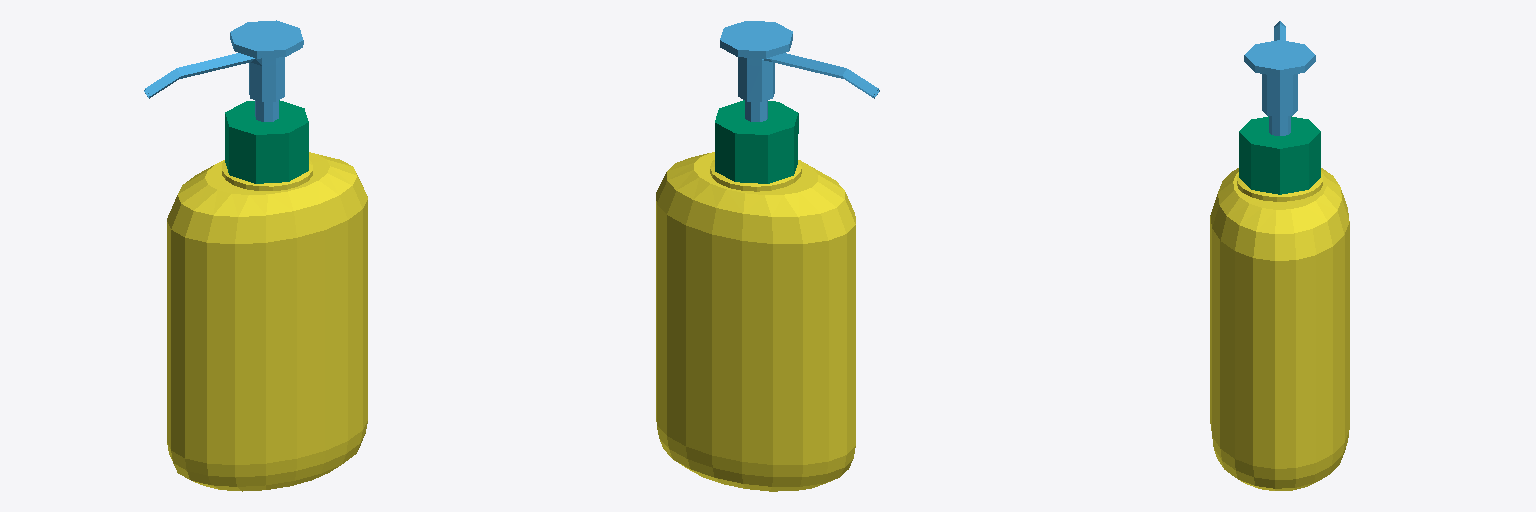
URDF robot description (partnet_daab8d5b-b371-404b-b11b-94564de1e0de):
<?xml version="1.0" ?>
<robot name="partnet_daab8d5b-b371-404b-b11b-94564de1e0de">
	<link name="base"/>
	<link name="link_0">
		<visual name="pressing_lid-1">
			<origin xyz="-0.004700500000000003 0 -0.00026694471682328635"/>
			<geometry>
				<mesh filename="textured_objs/original-3.obj"/>
			</geometry>
		</visual>
		<collision>
			<origin xyz="-0.004700500000000003 0 -0.00026694471682328635"/>
			<geometry>
				<mesh filename="textured_objs/original-3.obj"/>
			</geometry>
		</collision>
	</link>
	<joint name="joint_0" type="continuous">
		<origin xyz="0.0 0 0.0"/>
		<axis xyz="0 1 0"/>
		<child link="link_0"/>
		<parent link="link_0_helper"/>
	</joint>
	<link name="link_1">
		<visual name="head-3">
			<origin xyz="-0.0046615 0 0.002041000000000015"/>
			<geometry>
				<mesh filename="textured_objs/original-2.obj"/>
			</geometry>
		</visual>
		<collision>
			<origin xyz="-0.0046615 0 0.002041000000000015"/>
			<geometry>
				<mesh filename="textured_objs/original-2.obj"/>
			</geometry>
		</collision>
	</link>
	<joint name="joint_1" type="continuous">
		<origin xyz="0.0 0 0.0"/>
		<axis xyz="0 -1 0"/>
		<child link="link_1"/>
		<parent link="link_1_helper"/>
	</joint>
	<link name="link_2">
		<visual name="base_body-4">
			<origin xyz="0 0 0"/>
			<geometry>
				<mesh filename="textured_objs/original-1.obj"/>
			</geometry>
		</visual>
		<collision>
			<origin xyz="0 0 0"/>
			<geometry>
				<mesh filename="textured_objs/original-1.obj"/>
			</geometry>
		</collision>
	</link>
	<joint name="joint_2" type="fixed">
		<origin rpy="1.570796326794897 0 -1.570796326794897" xyz="0 0 0"/>
		<child link="link_2"/>
		<parent link="base"/>
	</joint>
	<link name="link_0_helper"/>
	<joint name="joint_3" type="prismatic">
		<origin xyz="3.900000000000344e-05 0 0.0023079447168233014"/>
		<axis xyz="0 -1 0"/>
		<child link="link_0_helper"/>
		<parent link="link_1"/>
		<limit lower="0" upper="0.08"/>
	</joint>
	<link name="link_1_helper"/>
	<joint name="joint_4" type="prismatic">
		<origin xyz="0.0046615 0 -0.002041000000000015"/>
		<axis xyz="0 1 0"/>
		<child link="link_1_helper"/>
		<parent link="link_2"/>
		<limit lower="0" upper="0.1"/>
	</joint>
</robot>

--- What the picture shows (computed from the rendered views, not written in the file) ---
Views: 3 orthographic renders of the robot side by side, from view 1: azimuth 30°, elevation 25°; view 2: azimuth 150°, elevation 25°; view 3: azimuth 270°, elevation 25°.
Model partnet_daab8d5b-b371-404b-b11b-94564de1e0de with 6 links and 5 joints (2 continuous, 2 prismatic, 1 fixed), rooted at base, posed all joints at 0.
Visible links, largest first — view 1: link_2, link_1, link_0; view 2: link_2, link_1, link_0; view 3: link_2, link_1, link_0.
Boxes of the visible links, bbox=[...] form: link_2: bbox=[167, 152, 367, 491]; link_1: bbox=[225, 100, 308, 183]; link_0: bbox=[144, 20, 303, 121]; link_2: bbox=[656, 152, 855, 491]; link_1: bbox=[715, 100, 798, 183]; link_0: bbox=[720, 21, 879, 121]; link_2: bbox=[1210, 168, 1349, 490]; link_1: bbox=[1239, 116, 1320, 194]; link_0: bbox=[1244, 21, 1315, 135].
Size in the robot's own frame: 0.866 by 0.5136 by 1.65 metres.
Meshes: 3 distinct files referenced, 3 mesh visuals loaded (3 OBJ).